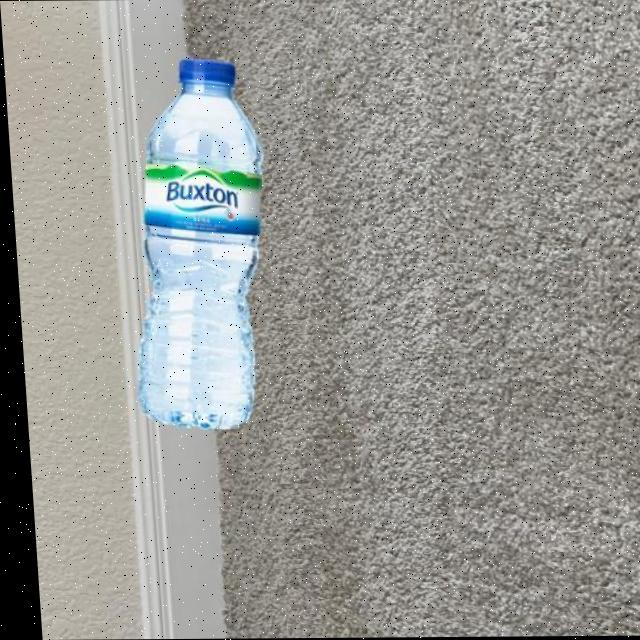bottle: (112, 57, 275, 432)
